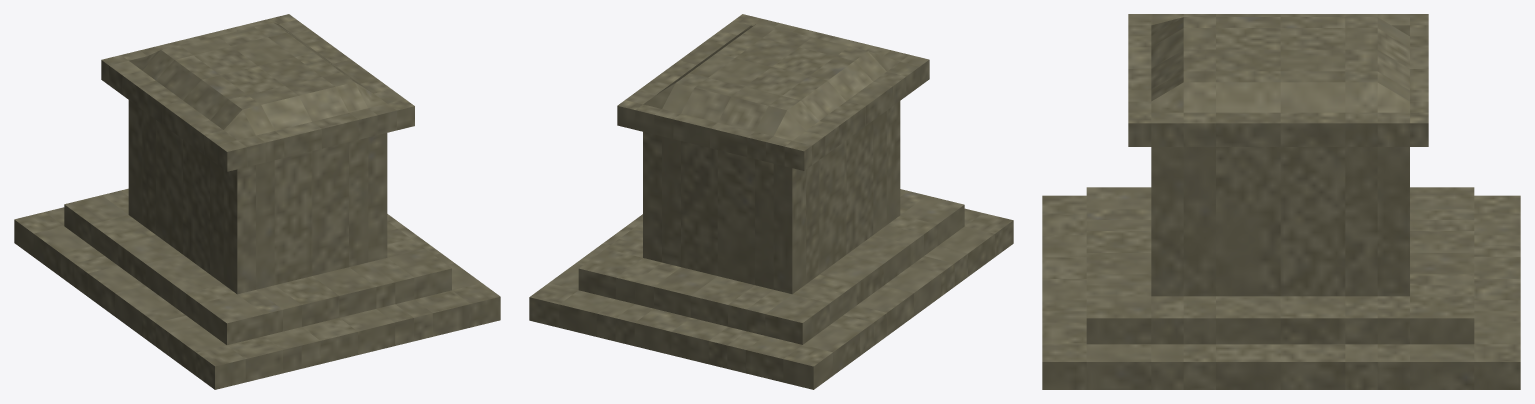
Rendered from Acosta_I_TombstoneWall5.fbx.
3 renders of one model, left to right at view 1: azimuth 30°, elevation 25°; view 2: azimuth 150°, elevation 25°; view 3: azimuth 270°, elevation 25°, orthographic. The views are drawn at different scales.
Parts seen in each view (by area): view 1: Cube; view 2: Cube; view 3: Cube.
Part boxes in pixels (box(x1,y1,x2,y2)): Cube: box(14, 14, 500, 389); Cube: box(529, 14, 1013, 389); Cube: box(1042, 14, 1520, 389).
Size of the model in its own units: 765 by 552 by 932.
Materials: 1 (1 with a texture image).
